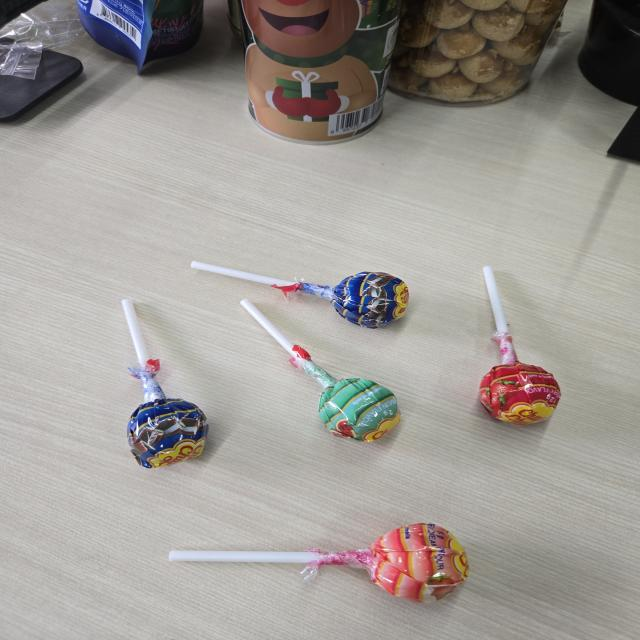lollipop: (168, 518, 472, 608), (232, 294, 406, 447), (120, 296, 214, 473), (190, 257, 415, 329), (474, 263, 563, 428)
